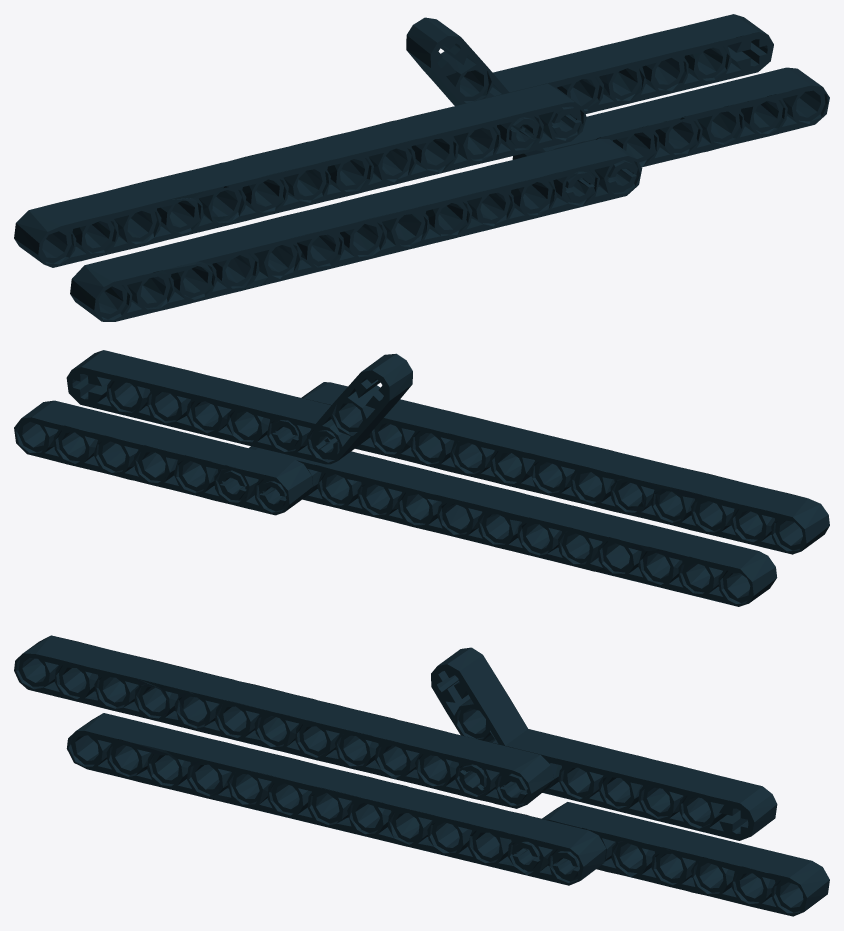
File: bobb3e_arm_right.dae
3 renders of one model, top to bottom at view 1: azimuth 30°, elevation 25°; view 2: azimuth 150°, elevation 25°; view 3: azimuth 330°, elevation 25°, orthographic. The views are drawn at different scales.
Visible parts, largest first — view 1: Technic_Beam_13__02; view 2: Technic_Beam_13__02; view 3: Technic_Beam_13__02.
Boxes of the visible parts, x1,y1,x2,y2 form: Technic_Beam_13__02: (14,14,829,321); Technic_Beam_13__02: (14,350,829,606); Technic_Beam_13__02: (14,635,829,916).
Size of the model in its own units: 0.1537 by 0.0162 by 0.0325.
